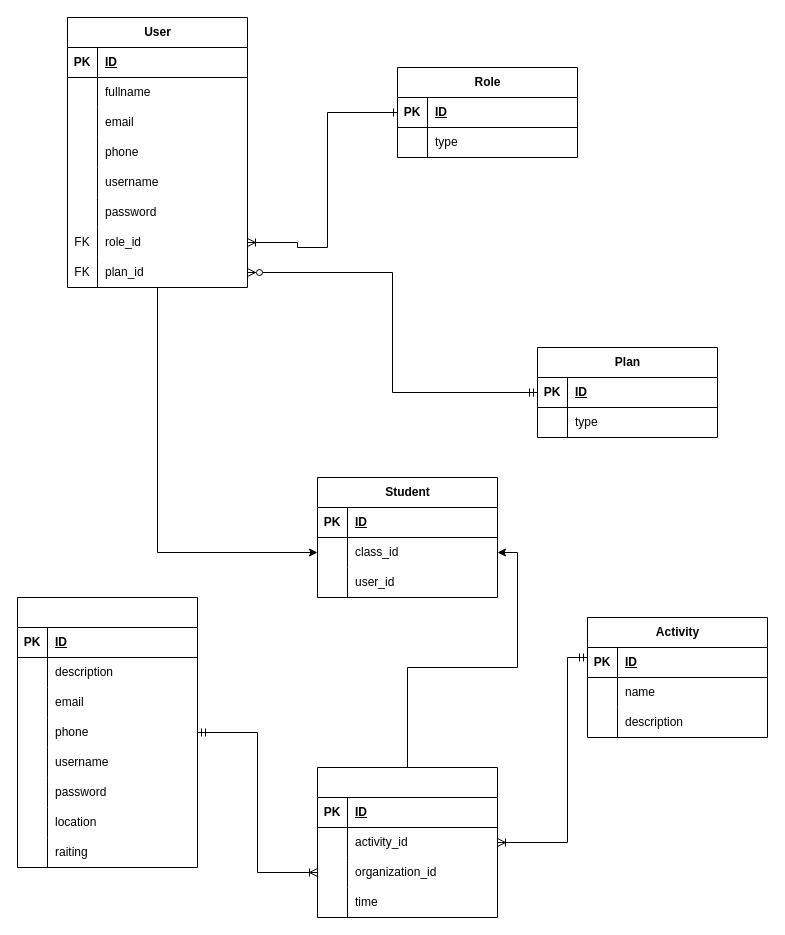
Some shapes in this 785 by 935 pixel diagram are drawn without their labels. Each missing label, with the box of its shape:
Class: (316, 766, 498, 918)
Organization: (16, 596, 198, 868)
